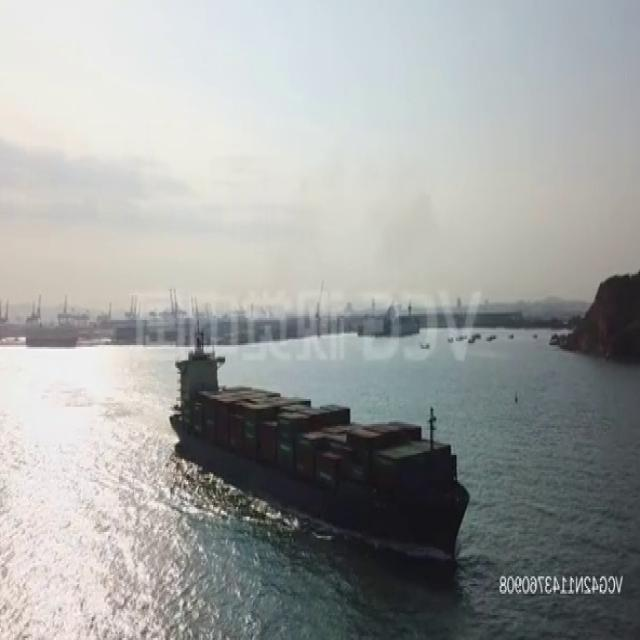cargoship: (170, 323, 470, 562)
